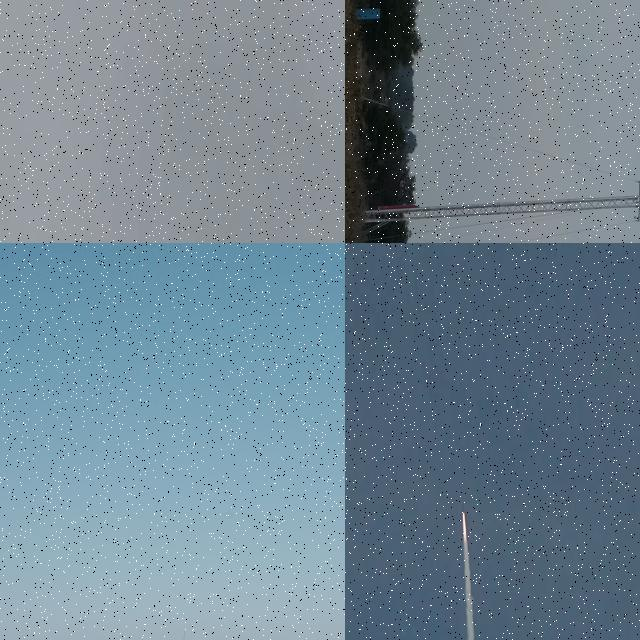Rocket: (377, 205, 420, 210), (462, 504, 464, 514)
